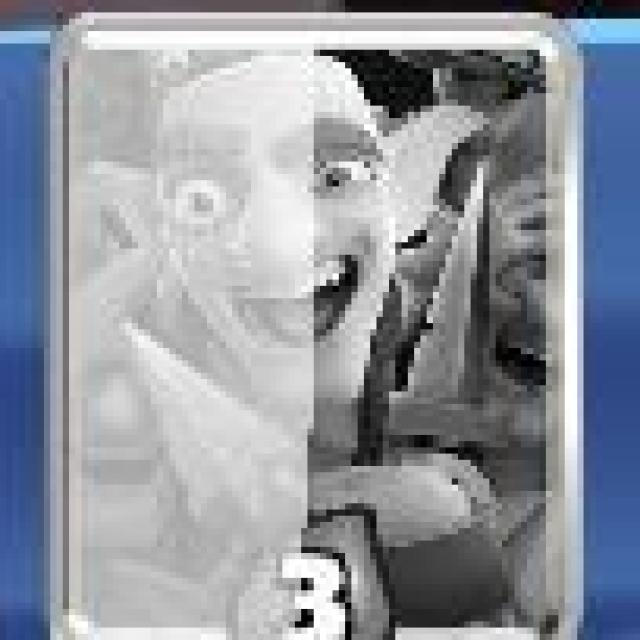Goblin_Gang: (44, 10, 580, 640)
